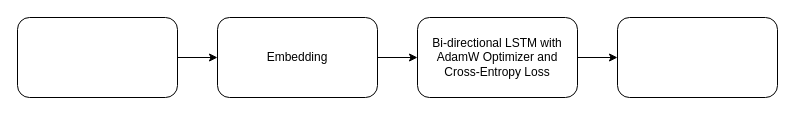
Image size: 795x115. Some labels were removed from this diagram. The shapes that lost their labels are listed below. From the top down, each one's box as (x1, y1, x2, y2) in pixels, then its label:
(16, 16, 178, 98): Data
(616, 16, 778, 98): Classification
